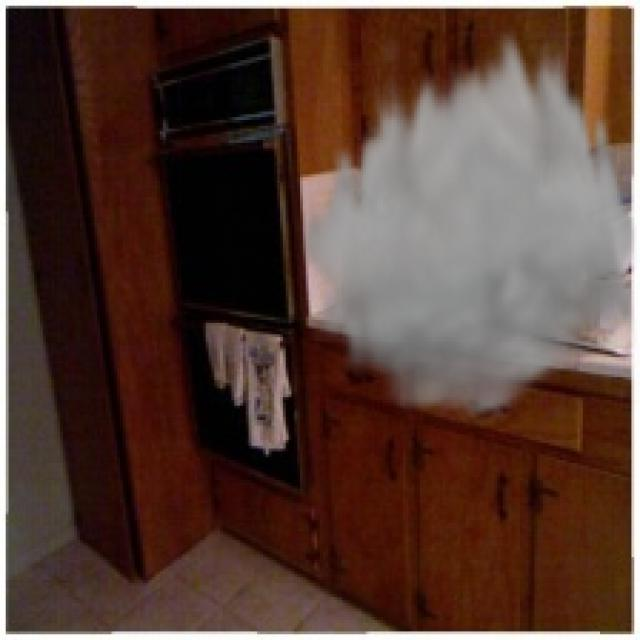smoke: (297, 17, 637, 429)
